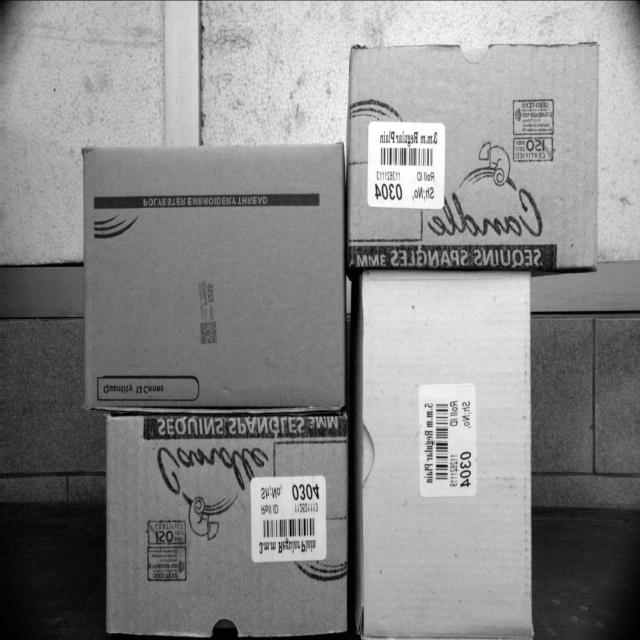cardboxes: (87, 146, 344, 407), (352, 272, 532, 637), (348, 42, 600, 274), (100, 414, 352, 639)
